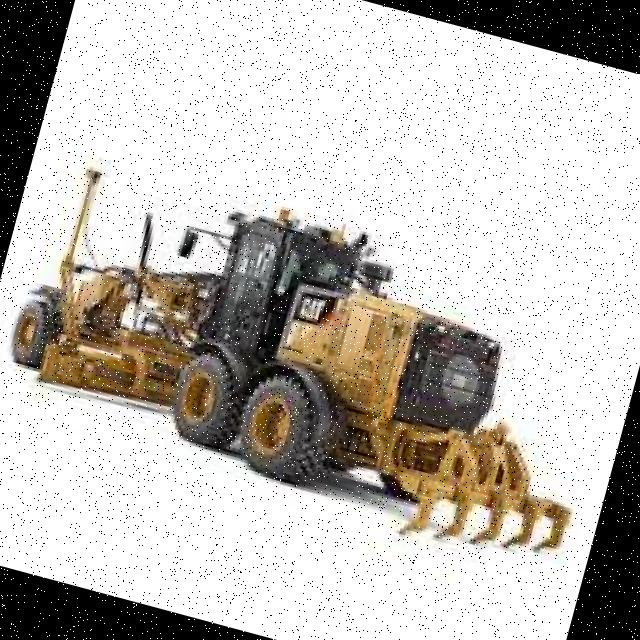Grader: (0, 133, 640, 589)
